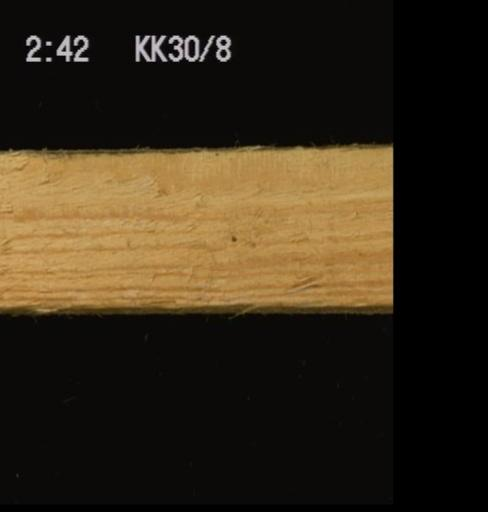small_knot: (223, 227, 242, 245)
